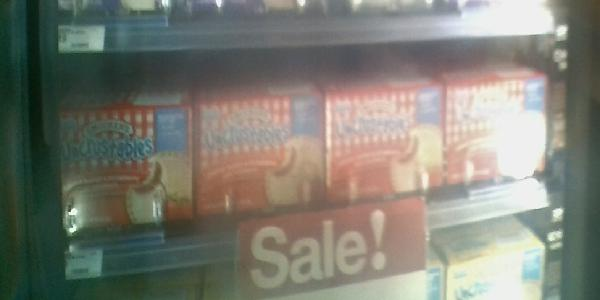icecream: (191, 93, 326, 226), (60, 101, 194, 232), (327, 85, 446, 207), (445, 72, 552, 196)
